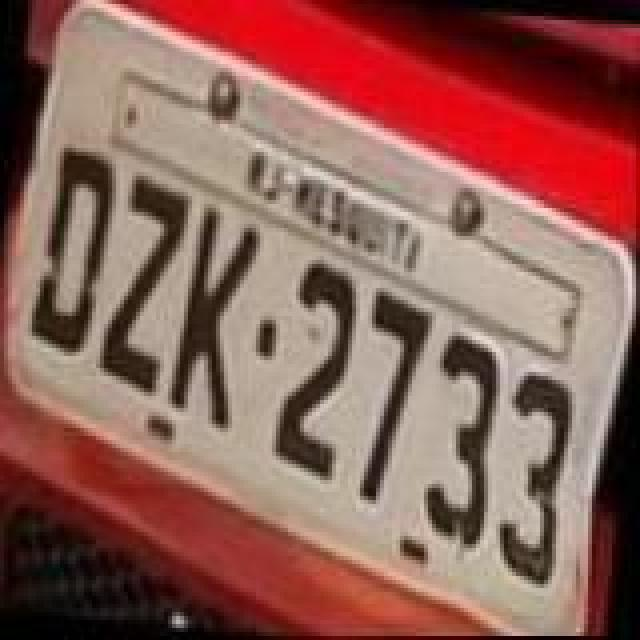2: (270, 254, 366, 486)
3: (420, 330, 508, 550), (492, 372, 580, 588)
7: (352, 288, 440, 512)
D: (24, 144, 120, 360)
K: (164, 200, 264, 432)
Z: (92, 168, 192, 400)
